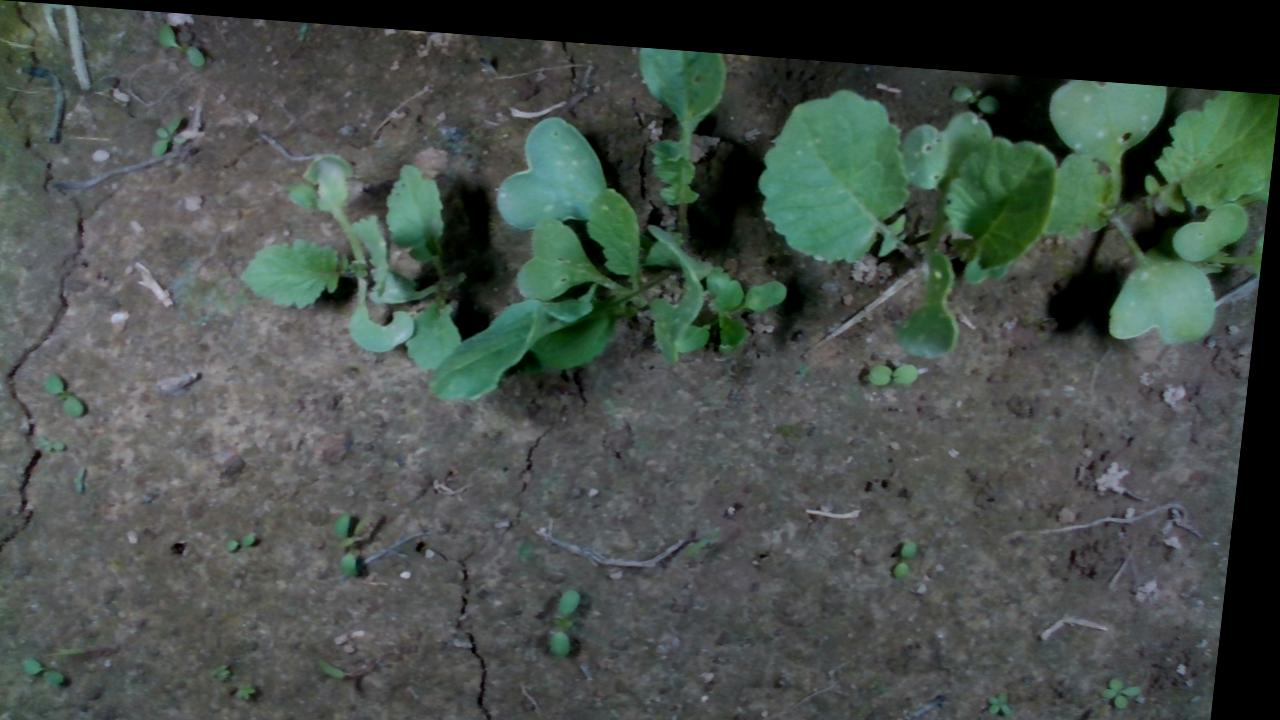weed: (152, 18, 209, 65), (46, 368, 98, 418), (559, 576, 595, 648), (337, 502, 374, 571), (149, 102, 191, 157), (948, 67, 1005, 98), (870, 344, 926, 373), (32, 653, 82, 685), (1109, 658, 1156, 691), (902, 521, 929, 564), (998, 670, 1028, 701), (233, 524, 269, 547), (45, 434, 78, 454), (81, 460, 98, 491)
